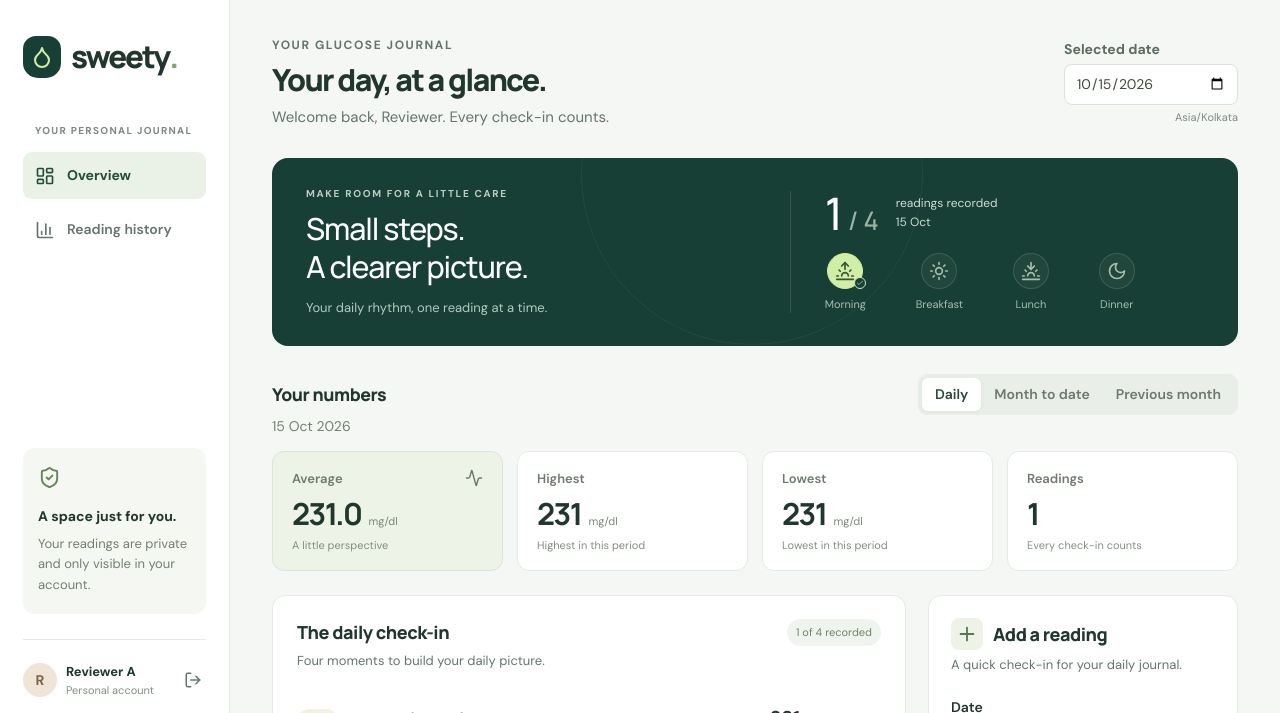
a history failure leaves the daily count, average and slots visible on overview
The width and height of the screenshot is (1280, 713).
Expected: the text "231.0" is shown, [292,493,362,534]
Expected: the text "1 of 4 recorded" is shown, [787,619,881,646]
Click the button "Reading history": [114, 230] box [23,206,206,253]
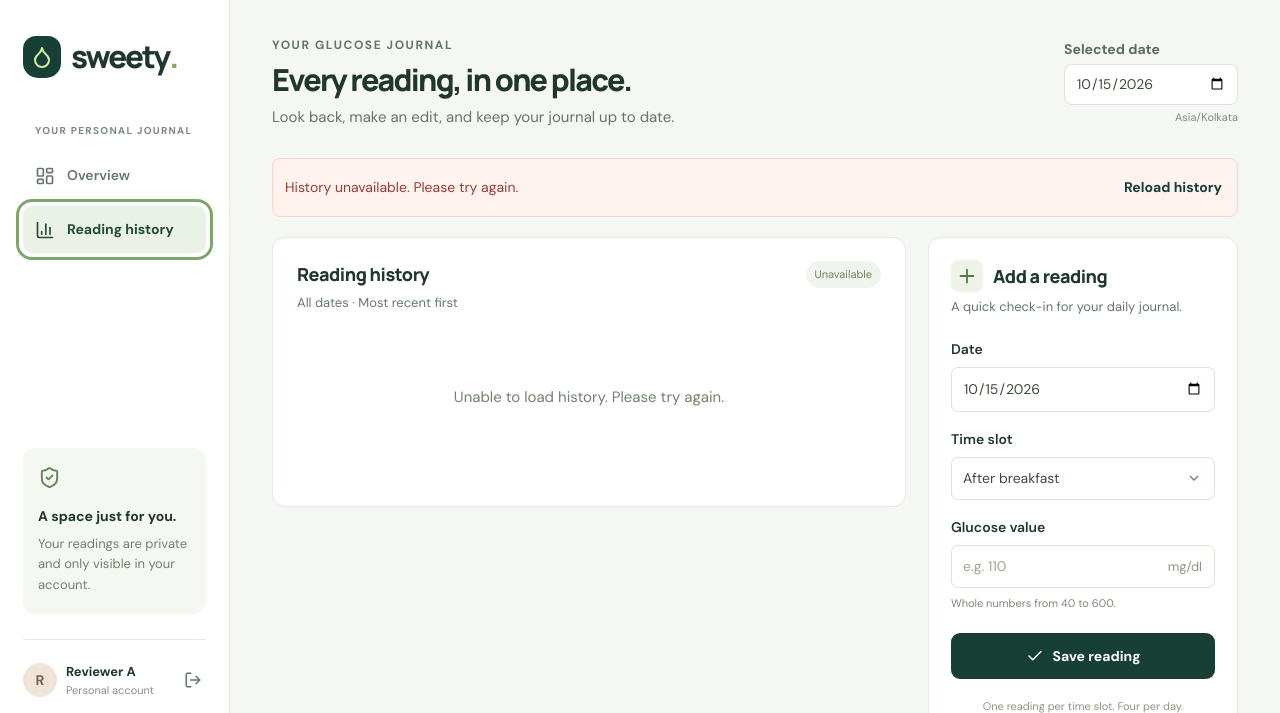
Expected: the message shows "History unavailable.", [285,178,518,196]
Expected: the text "Unable to load history. Please try again." is shown, [454,387,724,407]
Click the button "Overview": [114, 176] box [23,152,206,199]
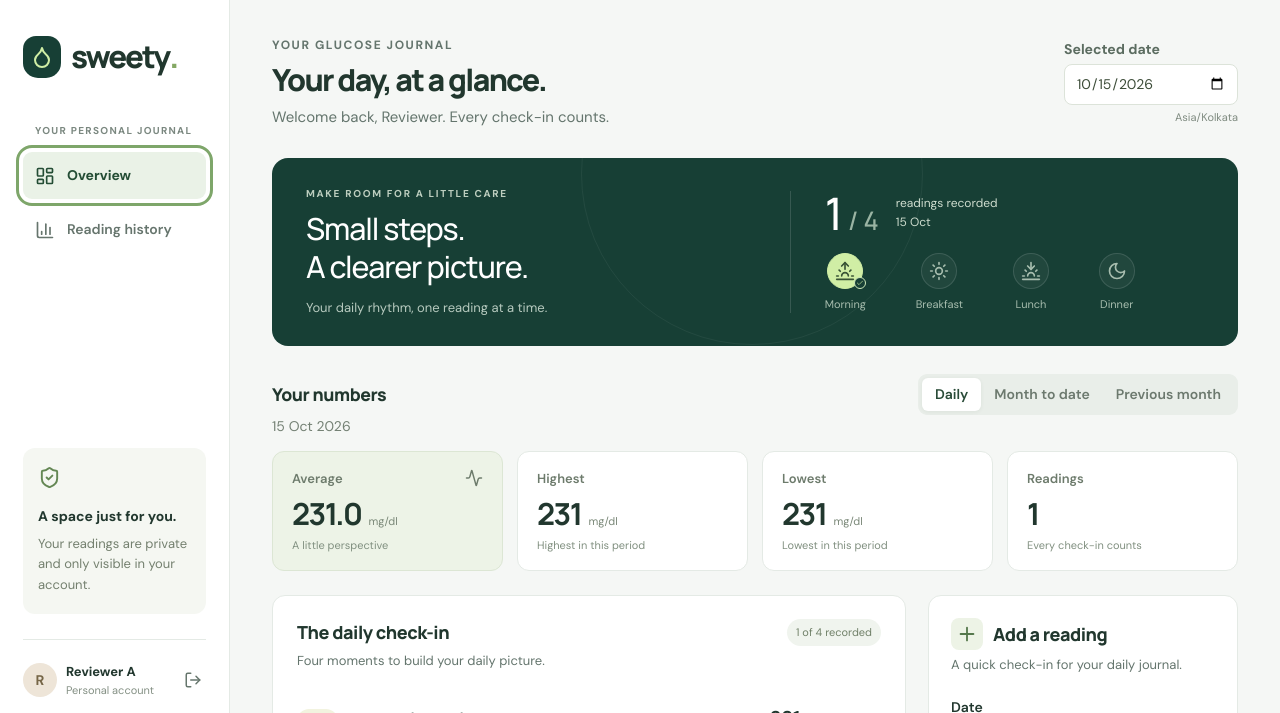
Expected: the message "History unavailable. Please try again. Reload history" is gone
Expected: the text "231.0" is shown, [292,493,362,534]
Expected: the text "1 of 4 recorded" is shown, [787,619,881,646]
Click the button "Reading history": [114, 230] box [23,206,206,253]
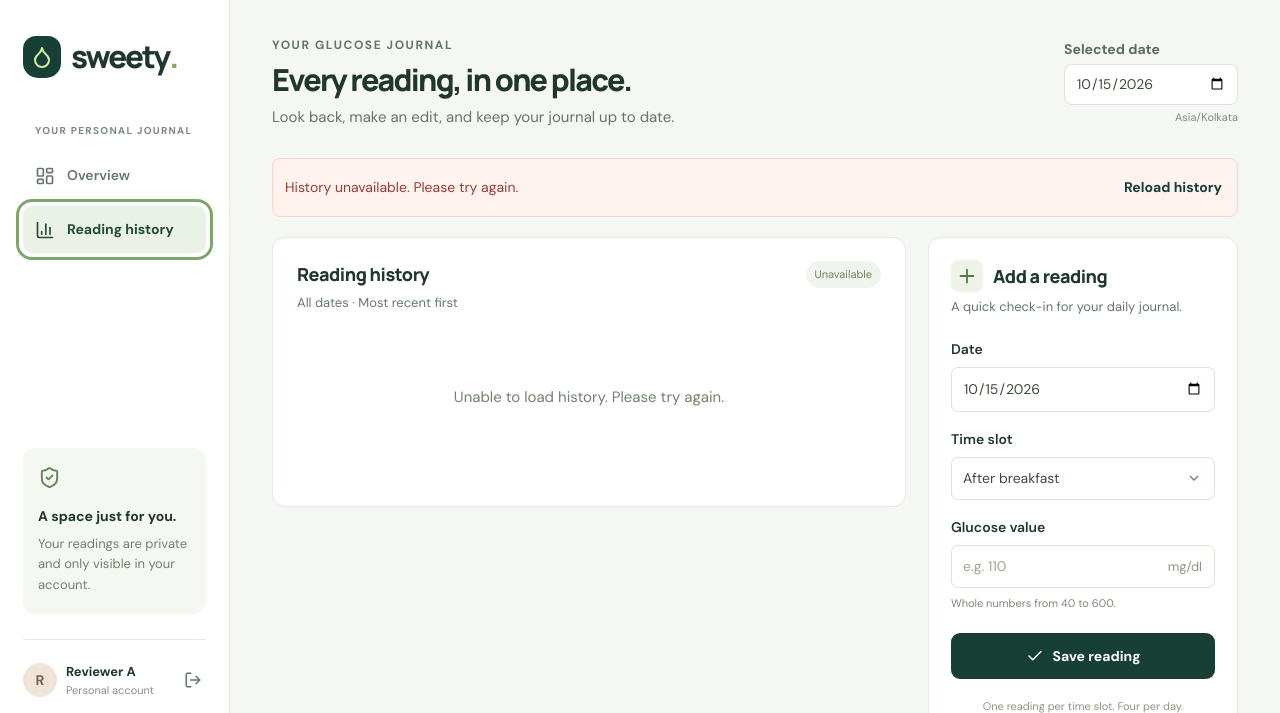
Expected: the message "History unavailable. Please try again. Reload history" is shown, [272,158,1238,217]
Click the button "Reload history": [1173, 188] box [1121,171,1225,204]
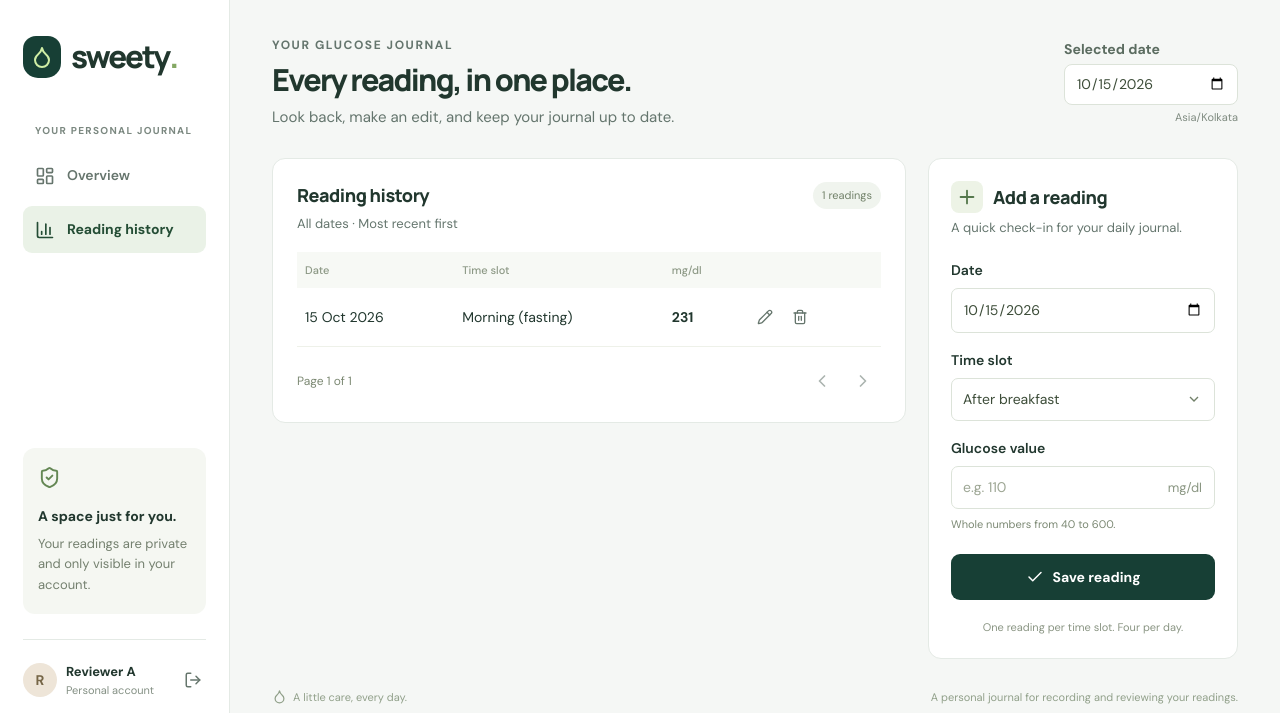
Expected: the table is shown, [297,252,881,347]
Expected: the message "History unavailable. Please try again. Reload history" is gone
